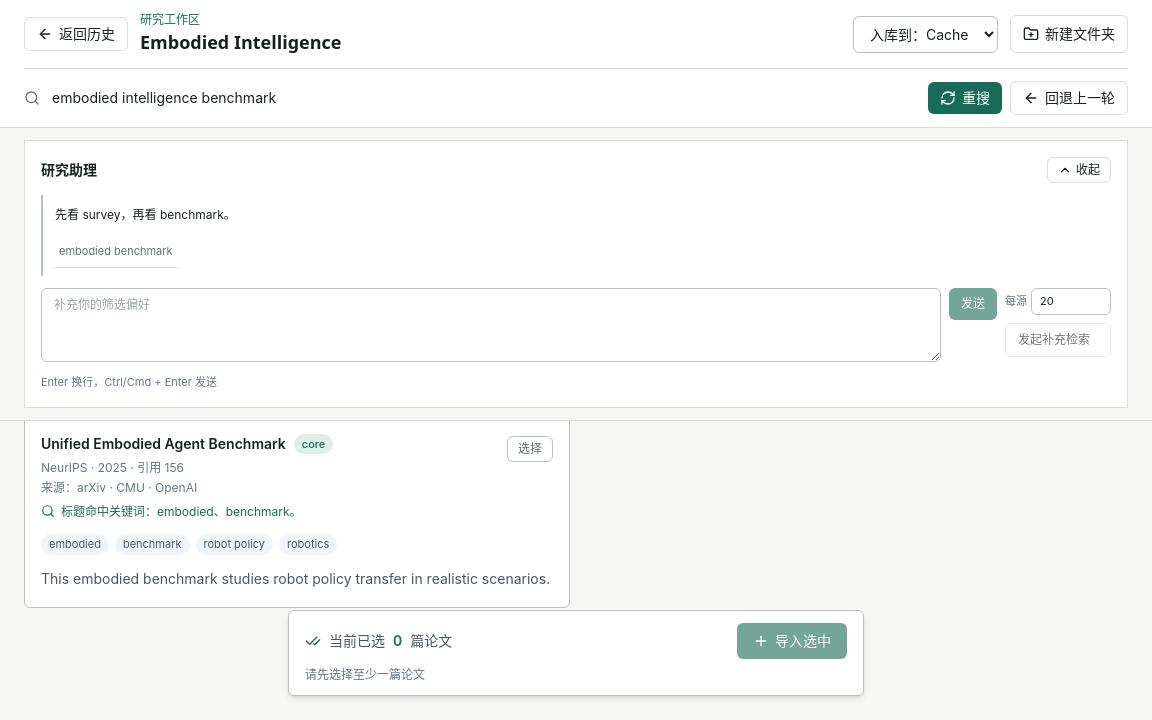
Test: SessionDetailPanel › opens detail drawer and shows highlighted full abstract
The width and height of the screenshot is (1152, 720).
(page scrolled)
Click the heading "Unified Embodied Agent Benchmark" at (163, 444), box [41,432,286,456]
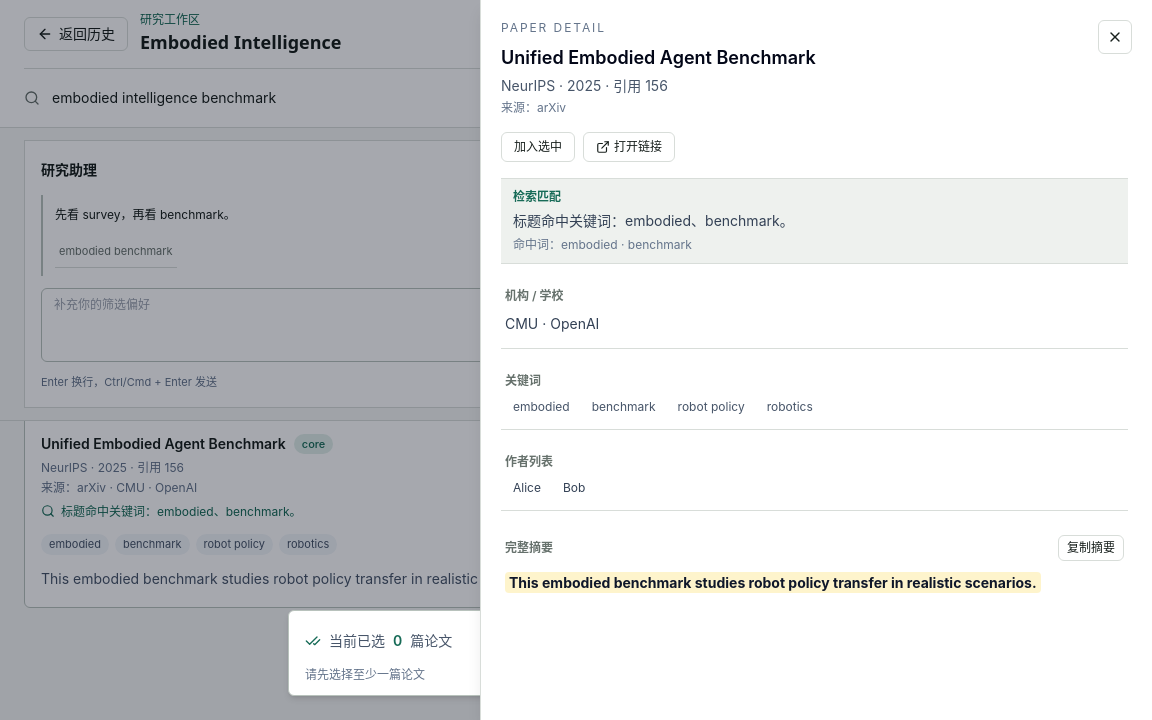
Check: the text "Paper Detail" is shown, box [501,20,606,35]
Check: the heading "作者列表" is shown, box [505,454,553,469]
Check: the heading "检索匹配" is shown, box [513,189,561,204]
